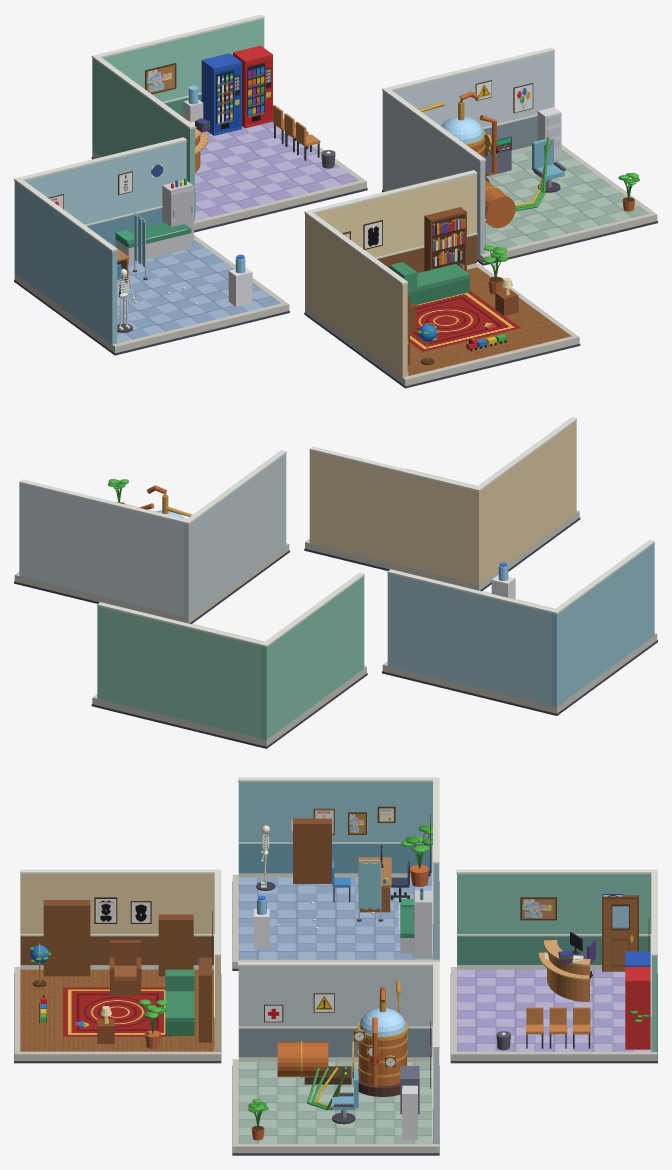
Rendered from rooms.glb.
3 views of the same model, one above another, from view 1: azimuth 30°, elevation 25°; view 2: azimuth 150°, elevation 25°; view 3: azimuth 270°, elevation 25° (orthographic). The views are drawn at different scales.
Visible parts, largest first — view 1: room_gp, room_psy, room_rec, room_def; view 2: room_gp, room_def, room_rec, room_psy; view 3: room_psy, room_rec, room_def, room_gp.
Part boxes in pixels (left/top/right/bottom): room_gp: left=14, top=137, right=289, bottom=355; room_psy: left=304, top=170, right=580, bottom=388; room_rec: left=91, top=14, right=367, bottom=232; room_def: left=382, top=47, right=657, bottom=265; room_gp: left=382, top=539, right=657, bottom=715; room_def: left=14, top=450, right=289, bottom=624; room_rec: left=91, top=572, right=367, bottom=748; room_psy: left=304, top=417, right=580, bottom=591; room_psy: left=14, top=869, right=221, bottom=1063; room_rec: left=450, top=869, right=657, bottom=1063; room_def: left=232, top=962, right=439, bottom=1155; room_gp: left=232, top=777, right=439, bottom=970.
Size of the model in its own units: 16.52 by 3.07 by 16.52.
Materials: 1 (1 with a texture image).
